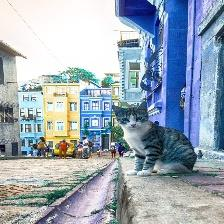kedo: (113, 101, 195, 176)
